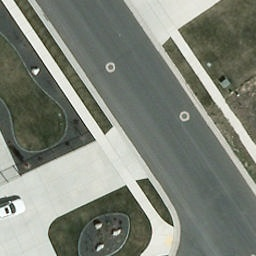car: (0, 199, 26, 223)
